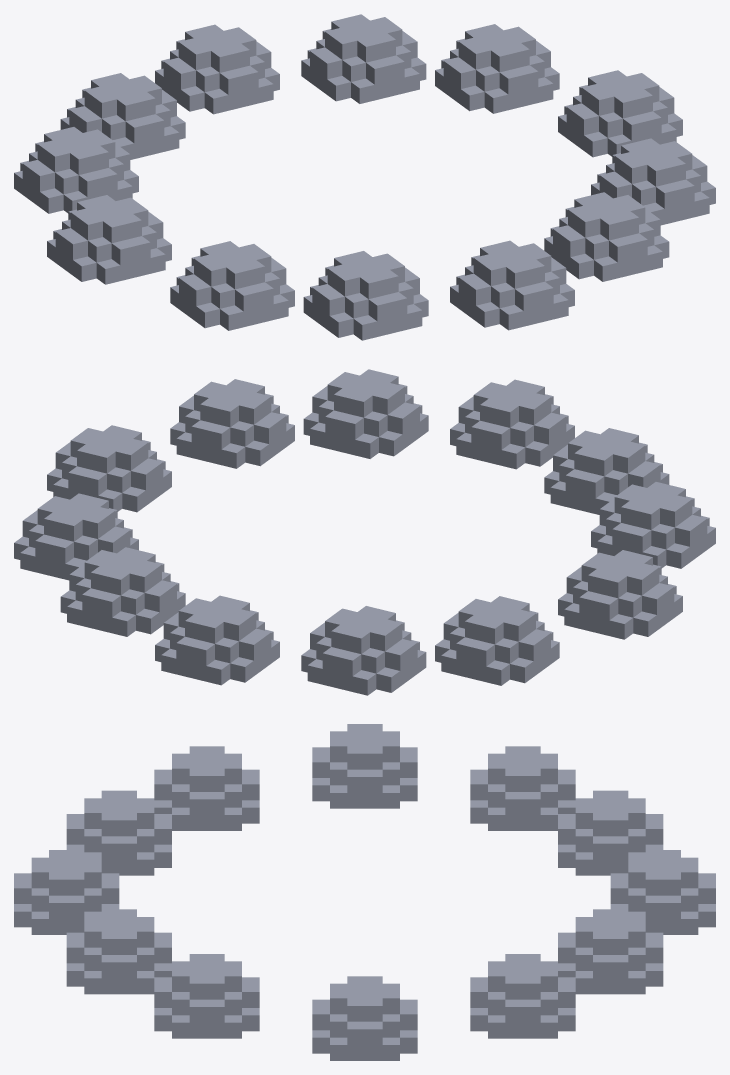
Rendered from Medieval Assets-323-Fire Ring.obj.
3 views of the same model, one above another, from view 1: azimuth 30°, elevation 25°; view 2: azimuth 150°, elevation 25°; view 3: azimuth 270°, elevation 25° (orthographic).
Visible parts, largest first — view 1: Fire Ring; view 2: Fire Ring; view 3: Fire Ring.
Part boxes in pixels (x1,y1,x2,y2): Fire Ring: [14, 14, 715, 340]; Fire Ring: [14, 369, 715, 695]; Fire Ring: [14, 724, 715, 1060].
Size of the model in its own units: 4 by 0.3 by 4.
1 material, 1 textured.
